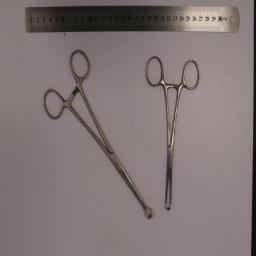Allis Tissue Forceps: (145, 55, 201, 209)
